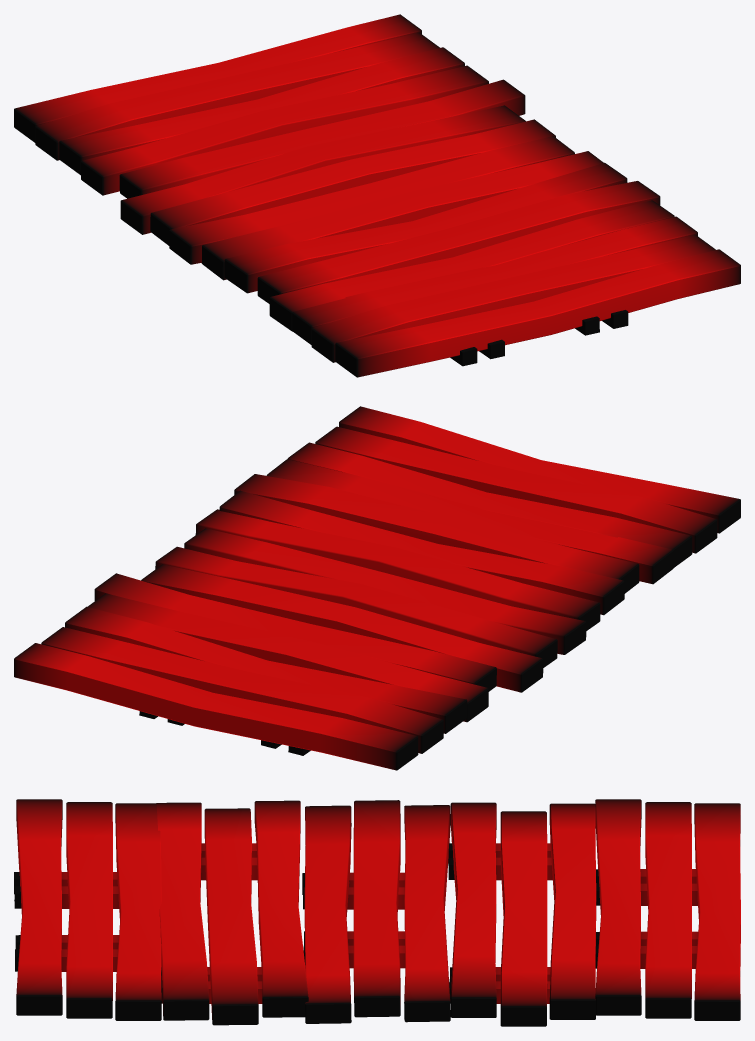
File: SM_BoardWalk_5m.FBX
The picture shows the model from 3 angles, top to bottom: view 1: azimuth 30°, elevation 25°; view 2: azimuth 150°, elevation 25°; view 3: azimuth 270°, elevation 25°; orthographic projection. The views are drawn at different scales.
Parts seen in each view (by area): view 1: SM_BoardWalk_5m_LOD0; view 2: SM_BoardWalk_5m_LOD0; view 3: SM_BoardWalk_5m_LOD0.
Boxes of the visible parts, <box> form: SM_BoardWalk_5m_LOD0: <box>14,14,740,377</box>; SM_BoardWalk_5m_LOD0: <box>14,406,740,770</box>; SM_BoardWalk_5m_LOD0: <box>14,799,740,1026</box>.
Size of what is drawn, in the model's own units: 341 by 502 by 28.01.
